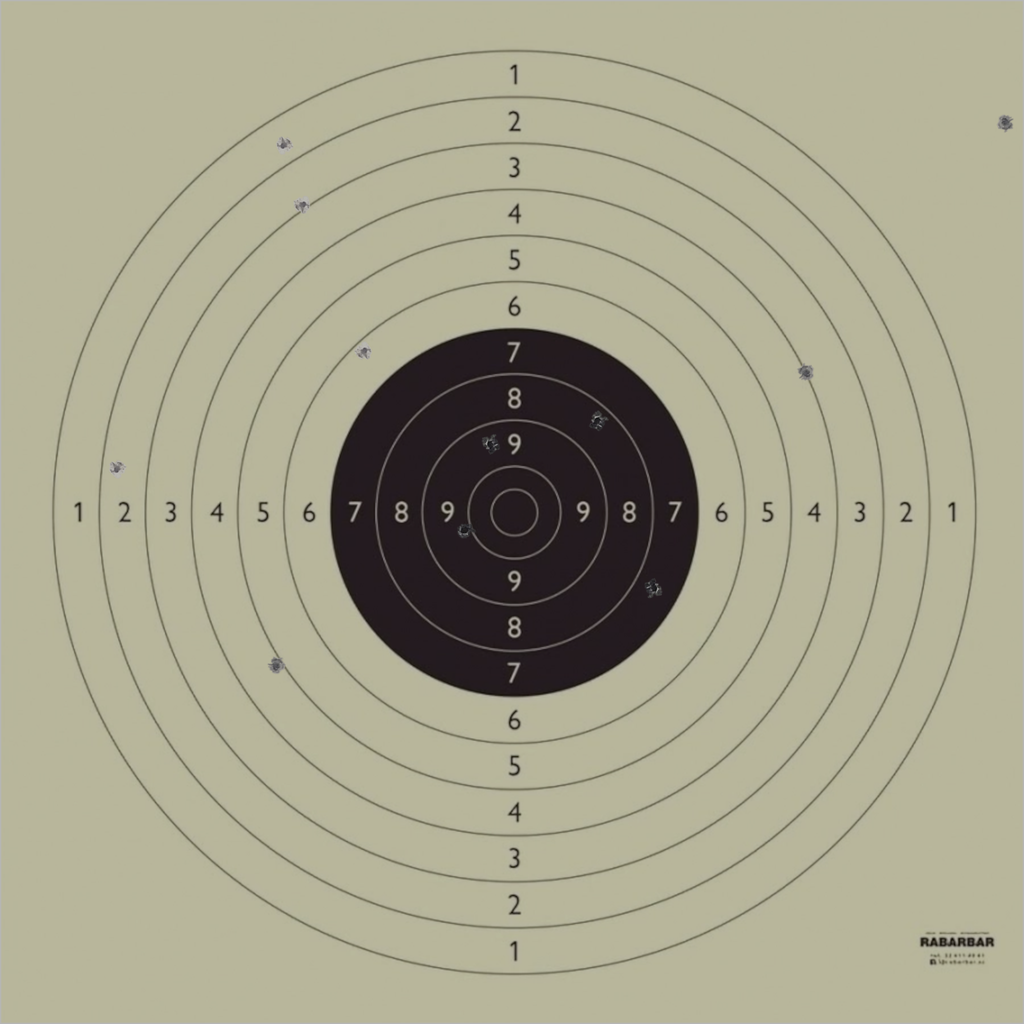0 punktow: (996, 113, 1014, 132)
1 punkt: (274, 136, 293, 154)
10 punktow: (456, 521, 474, 540)
2 punkty: (108, 460, 126, 478)
3 punkty: (294, 196, 312, 214)
4 punkty: (797, 364, 816, 382)
5 punktow: (267, 657, 286, 675)
6 punktow: (355, 342, 373, 360)
7 punktow: (644, 579, 663, 597)
8 punktow: (588, 412, 607, 431)
9 punktow: (482, 435, 500, 454)
